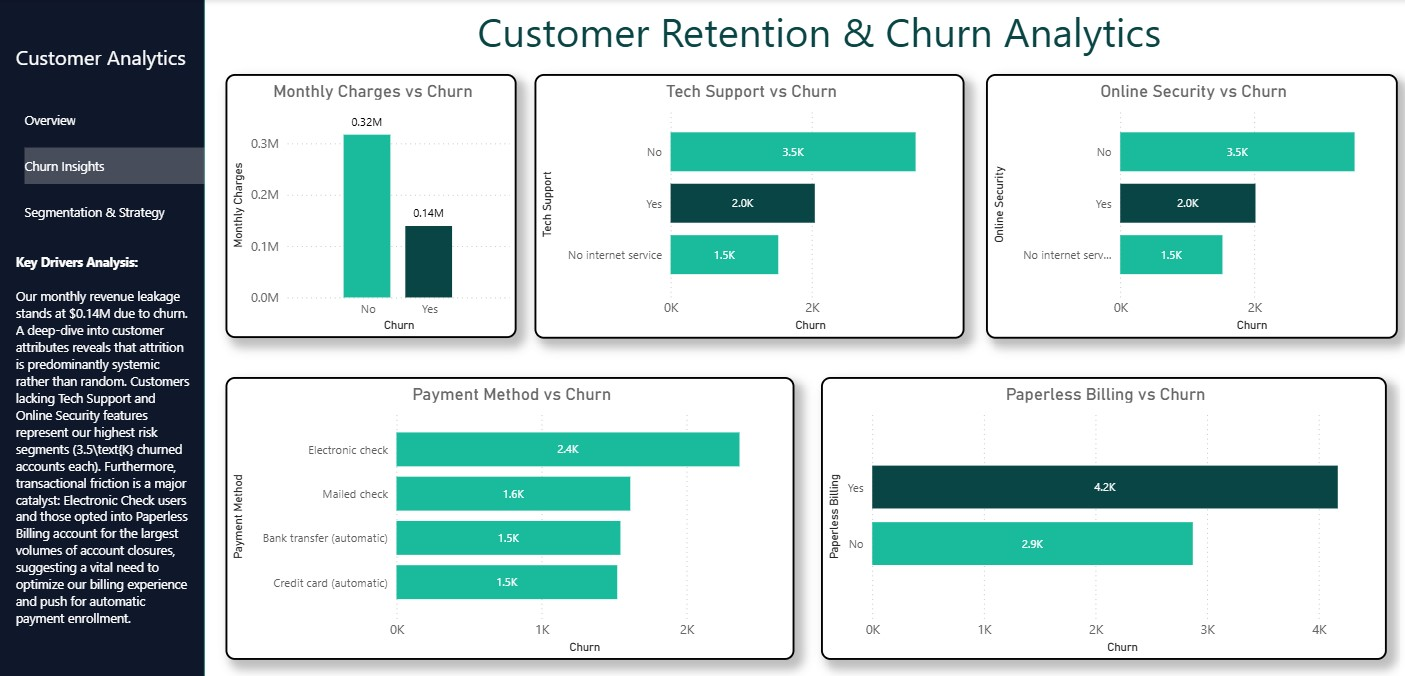

What the dashboard file says about the page in this screenshot:
{"tool":"powerbi","page":{"name":"Churn Insights","canvas":[1500,720],"ordinal":1},"visuals":[{"type":"clusteredColumnChart","title":"Monthly Charges vs Churn","fields":{"Category":["cleaned_churn_data.Churn"],"Y":["Sum(cleaned_churn_data.MonthlyCharges)"]},"box":[240.2,79.5,308.6,279.9],"z":0},{"type":"barChart","title":"Tech Support vs Churn","fields":{"Category":["cleaned_churn_data.TechSupport"],"Y":["CountNonNull(cleaned_churn_data.Churn)"]},"box":[567.8,79.9,456,280.4],"z":1000},{"type":"barChart","title":"Online Security vs Churn","fields":{"Category":["cleaned_churn_data.OnlineSecurity"],"Y":["CountNonNull(cleaned_churn_data.Churn)"]},"box":[1046.9,79.9,436.5,280.4],"z":2000},{"type":"barChart","title":"Payment Method vs Churn","fields":{"Category":["cleaned_churn_data.PaymentMethod"],"Y":["CountNonNull(cleaned_churn_data.Churn)"]},"box":[239.6,401,603.3,299.9],"z":3000},{"type":"barChart","title":"Paperless Billing vs Churn","fields":{"Category":["cleaned_churn_data.PaperlessBilling"],"Y":["CountNonNull(cleaned_churn_data.Churn)"]},"box":[871.3,401,599.8,299.9],"z":4000},{"type":"shape","box":[0,0,218.3,720.4],"z":5000},{"type":"pageNavigator","box":[26.6,108.2,191.6,138.4],"z":6000},{"type":"textbox","box":[495.1,0,750.6,72.8],"z":7000},{"type":"textbox","box":[12.4,40.8,244.9,55],"z":8000},{"type":"textbox","box":[12.7,264,195.6,437.4],"z":9003}]}

Visuals, with their boxes on the page's 1500x720 design canvas (x1, y1, x2, y2). These are canvas units, not pixel positions in the 1405x676 screenshot, which may show the page scaled, cropped or inside an application window:
"Monthly Charges vs Churn" clusteredColumnChart: bbox=(240, 80, 549, 359)
"Tech Support vs Churn" barChart: bbox=(568, 80, 1024, 360)
"Online Security vs Churn" barChart: bbox=(1047, 80, 1483, 360)
"Payment Method vs Churn" barChart: bbox=(240, 401, 843, 701)
"Paperless Billing vs Churn" barChart: bbox=(871, 401, 1471, 701)
shape: bbox=(0, 0, 218, 720)
pageNavigator: bbox=(27, 108, 218, 247)
textbox: bbox=(495, 0, 1246, 73)
textbox: bbox=(12, 41, 257, 96)
textbox: bbox=(13, 264, 208, 701)
